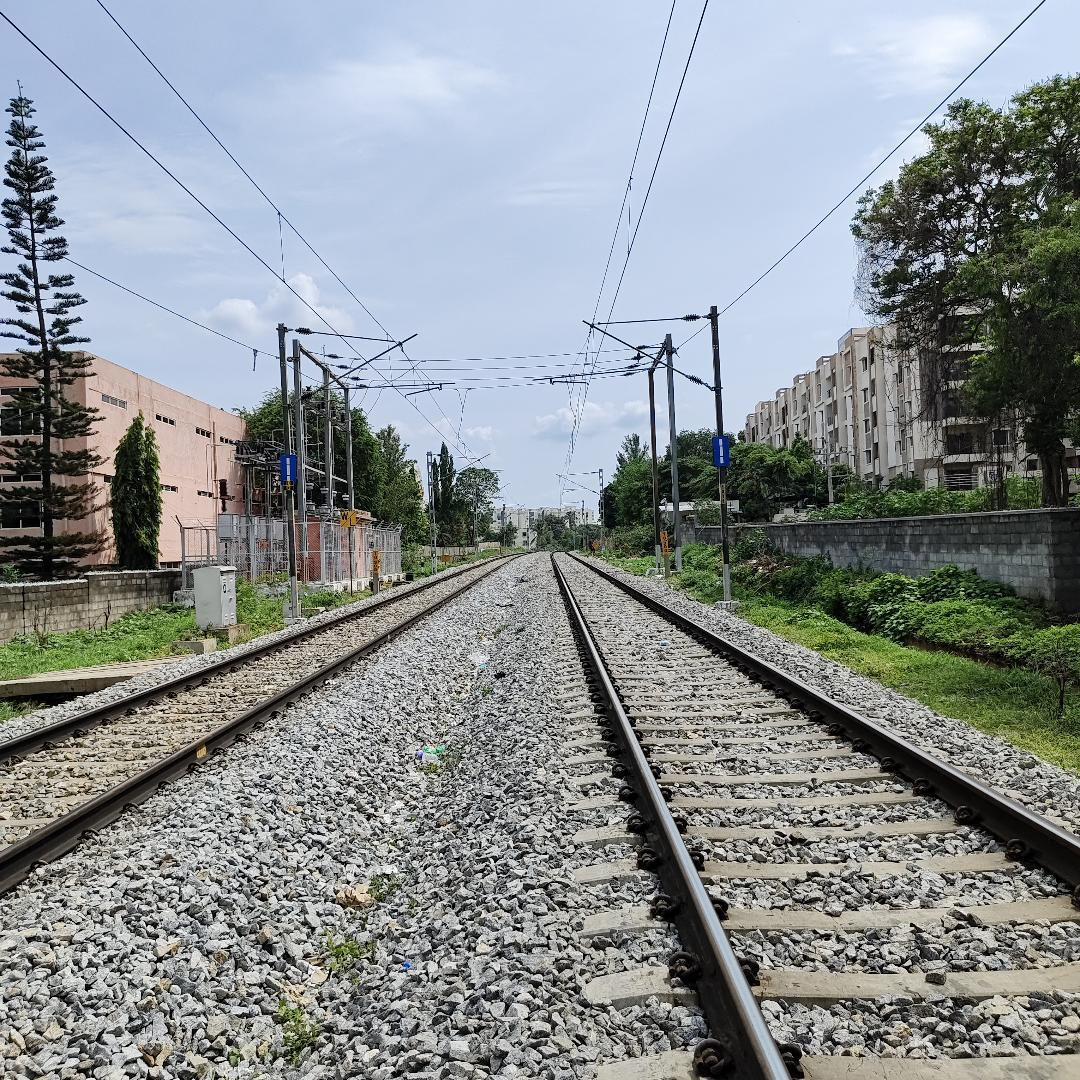track: (540, 545, 1080, 1070), (0, 545, 525, 954)
